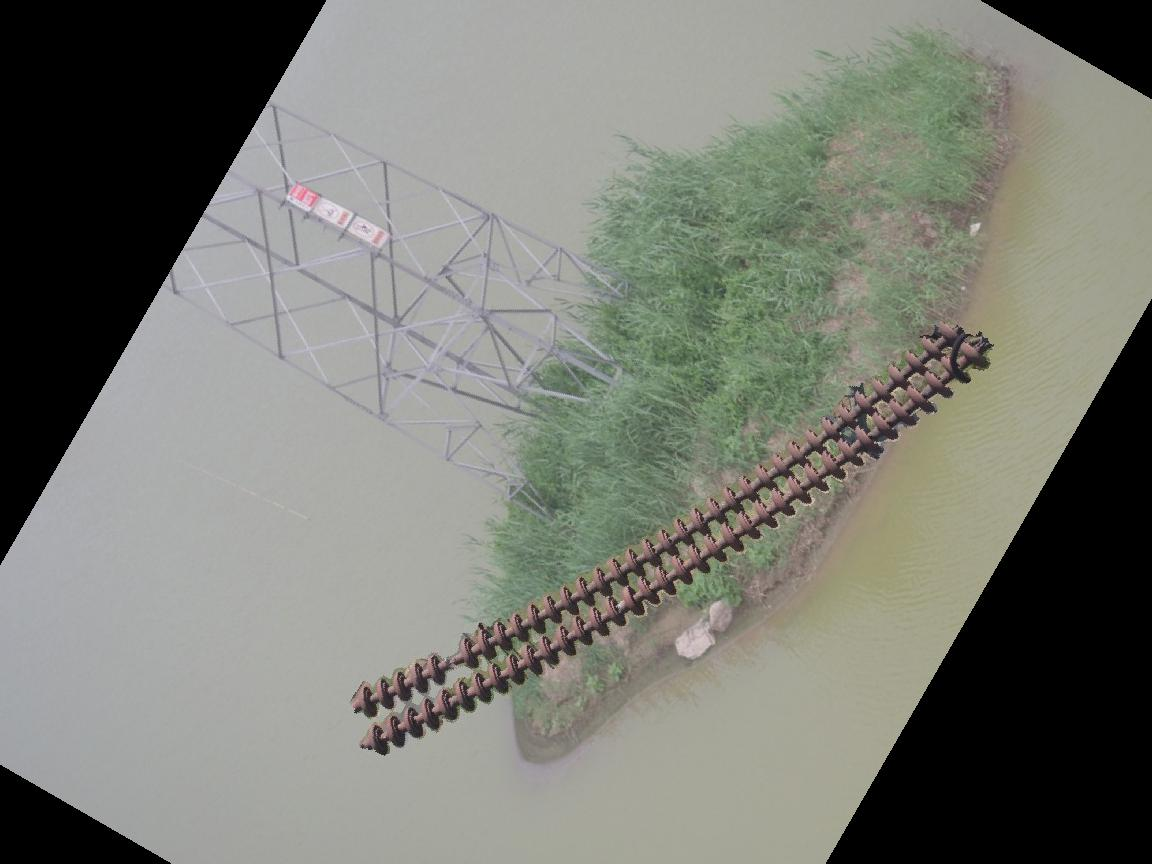insulator: (347, 315, 991, 758)
insulator_stringdrop: (425, 632, 480, 688)
